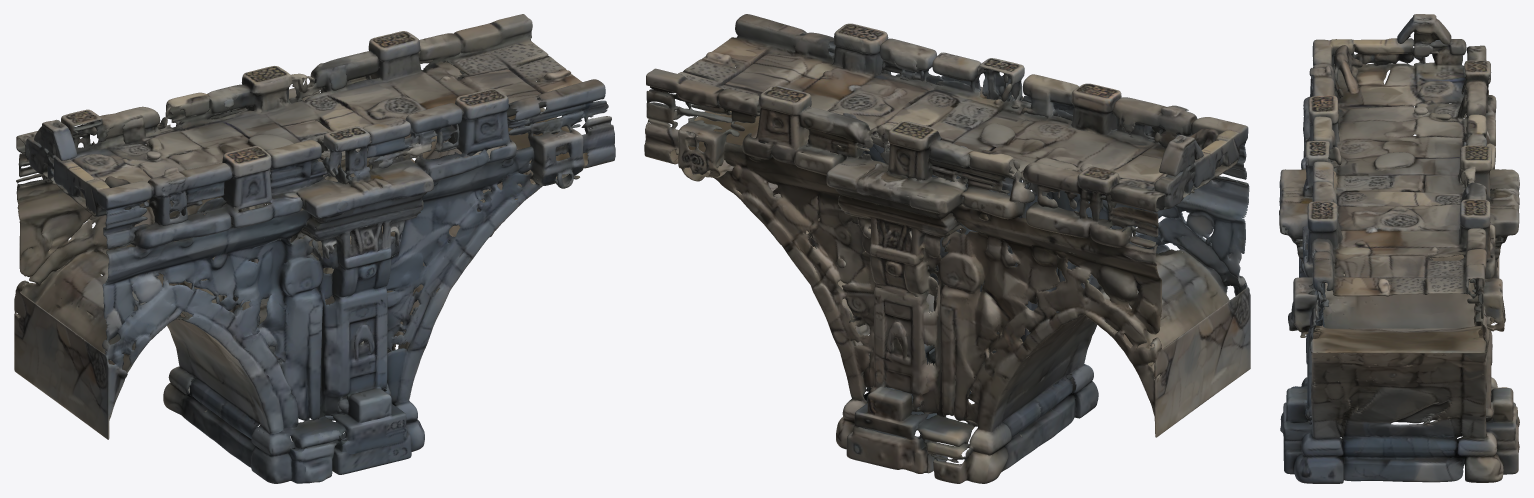
The model's file is arch_bridge_span.glb.
3 views of the same model, side by side, from view 1: azimuth 30°, elevation 25°; view 2: azimuth 150°, elevation 25°; view 3: azimuth 270°, elevation 25° (orthographic). The views are drawn at different scales.
Parts seen in each view (by area): view 1: tripo_node_e0c340e7-bc99-4b1c-ba89-c9116086cf4d; view 2: tripo_node_e0c340e7-bc99-4b1c-ba89-c9116086cf4d; view 3: tripo_node_e0c340e7-bc99-4b1c-ba89-c9116086cf4d.
Boxes of the visible parts, x1,y1,x2,y2 form: tripo_node_e0c340e7-bc99-4b1c-ba89-c9116086cf4d: (14,14,615,483); tripo_node_e0c340e7-bc99-4b1c-ba89-c9116086cf4d: (644,14,1250,483); tripo_node_e0c340e7-bc99-4b1c-ba89-c9116086cf4d: (1279,14,1519,483).
Bounding box in the file's own units: 1 × 0.6586 × 0.4371.
1 material, 1 textured.
